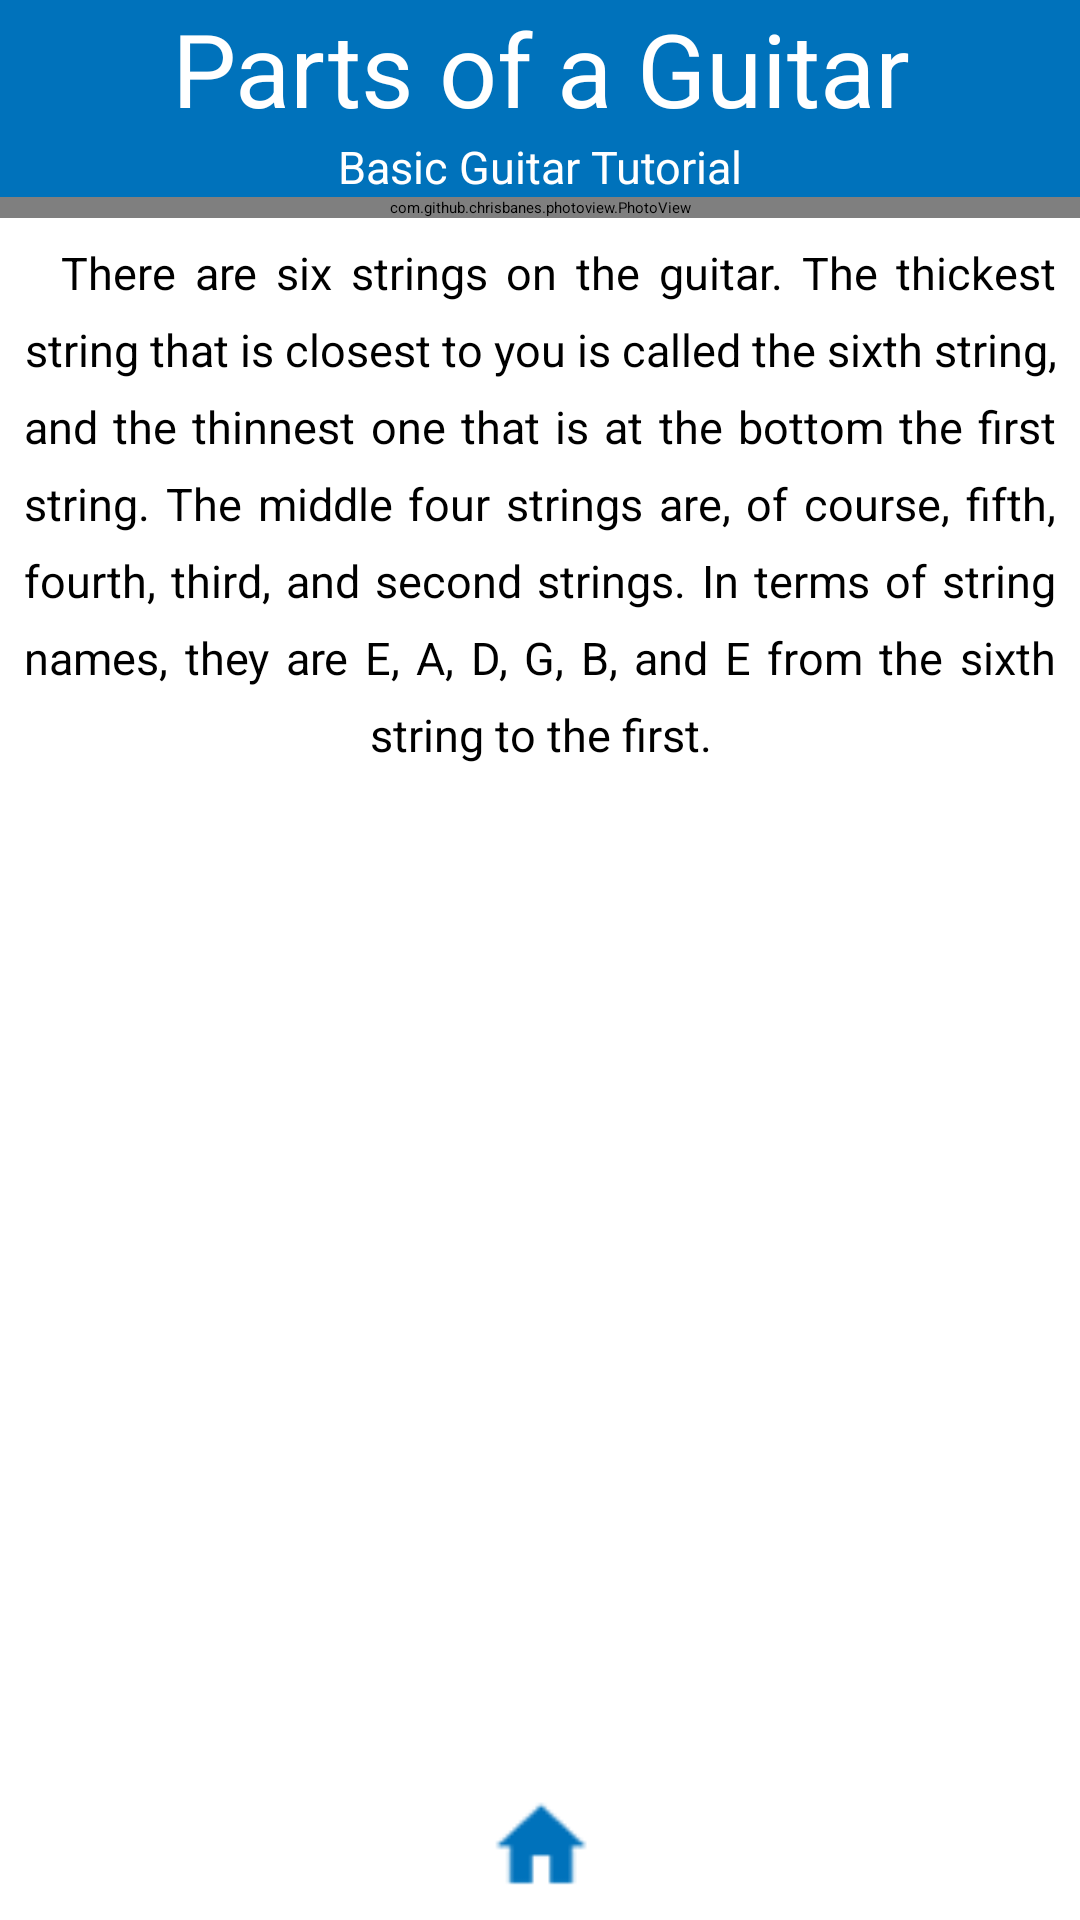

Point at icon controls on the screen. Image size 1080w x 1920h, points as (x,y).
home: (541,1843)
